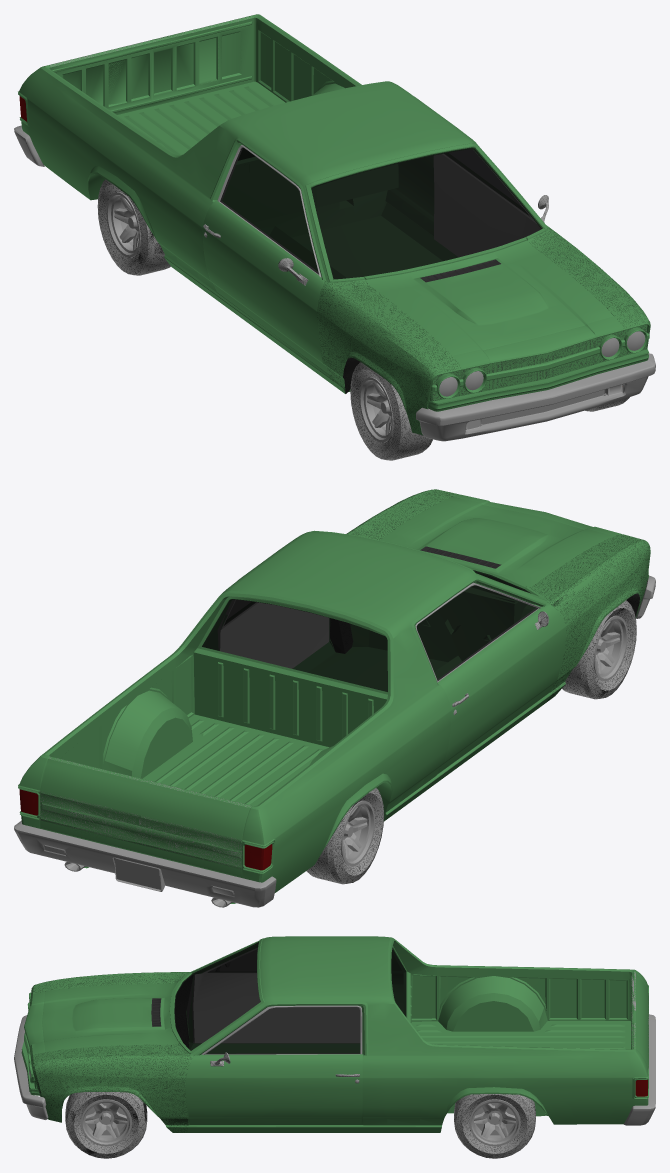
The model's file is Pickup.FBX.
3 renders of one model, top to bottom at view 1: azimuth 30°, elevation 25°; view 2: azimuth 150°, elevation 25°; view 3: azimuth 270°, elevation 25°, orthographic. The views are drawn at different scales.
Visible parts, largest first — view 1: Body, Front Window, Right Door, Hood, Rear Trunk, Right Fender, Left Door, Front Bumper, Wheel_FR, Wheel_RR, Left Fender, Lights; view 2: Body, Right Door, Rear Trunk, Hood, Rear Window, Right Fender, Rear Bumper, Left Door, Wheel_FR, Wheel_RR, Left Fender, Lights; view 3: Body, Left Door, Left Fender, Right Door, Hood, Front Window, Wheel_FL, Wheel_RL, Right Fender, Rear Trunk, Front Bumper, Rear Bumper (+1 smaller).
Boxes of the visible parts, x1,y1,x2,y2 form: Body: [18, 14, 650, 411]; Front Window: [311, 148, 541, 279]; Right Door: [202, 145, 328, 374]; Hood: [366, 240, 613, 355]; Rear Trunk: [48, 15, 253, 114]; Right Fender: [317, 280, 460, 435]; Left Door: [434, 149, 550, 256]; Front Bumper: [416, 353, 655, 441]; Wheel_FR: [350, 362, 433, 460]; Wheel_RR: [97, 179, 170, 275]; Left Fender: [527, 227, 650, 347]; Lights: [19, 96, 645, 396]; Body: [18, 494, 648, 903]; Right Door: [415, 582, 566, 774]; Rear Trunk: [38, 756, 253, 876]; Hood: [379, 497, 613, 587]; Rear Window: [202, 599, 387, 691]; Right Fender: [529, 534, 650, 702]; Rear Bumper: [14, 820, 276, 907]; Left Door: [218, 600, 328, 668]; Wheel_FR: [562, 600, 636, 699]; Wheel_RR: [306, 788, 383, 884]; Left Fender: [330, 489, 459, 653]; Lights: [19, 789, 272, 870]; Body: [21, 936, 648, 1132]; Left Door: [185, 1005, 362, 1124]; Left Fender: [31, 1043, 195, 1132]; Right Door: [187, 948, 359, 1042]; Hood: [42, 982, 178, 1051]; Front Window: [174, 942, 260, 1050]; Wheel_FL: [65, 1092, 147, 1158]; Wheel_RL: [454, 1094, 535, 1158]; Right Fender: [31, 972, 192, 1048]; Rear Trunk: [631, 972, 648, 1069]; Front Bumper: [14, 1015, 48, 1119]; Rear Bumper: [623, 1014, 655, 1125].
Size of the model in its own units: 256 by 181 by 685.
